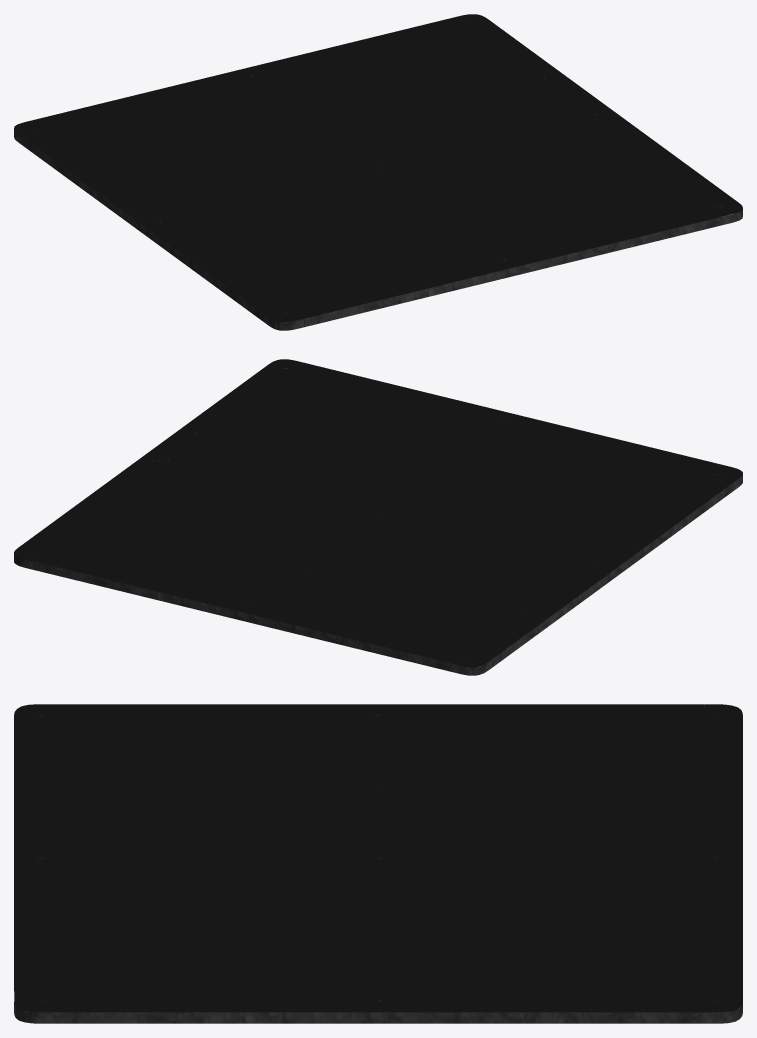
The model's file is puzzle_mats.glb.
3 renders of one model, top to bottom at view 1: azimuth 30°, elevation 25°; view 2: azimuth 150°, elevation 25°; view 3: azimuth 270°, elevation 25°, orthographic. The views are drawn at different scales.
Visible parts, largest first — view 1: Object034; view 2: Object034; view 3: Object034.
Part boxes in pixels (left/top/right/bottom): Object034: left=14, top=14, right=742, bottom=330; Object034: left=14, top=359, right=742, bottom=675; Object034: left=14, top=704, right=742, bottom=1023.
Bounding box in the file's own units: 0.6088 × 0.0106 × 0.6088.
2 materials, 1 textured.
